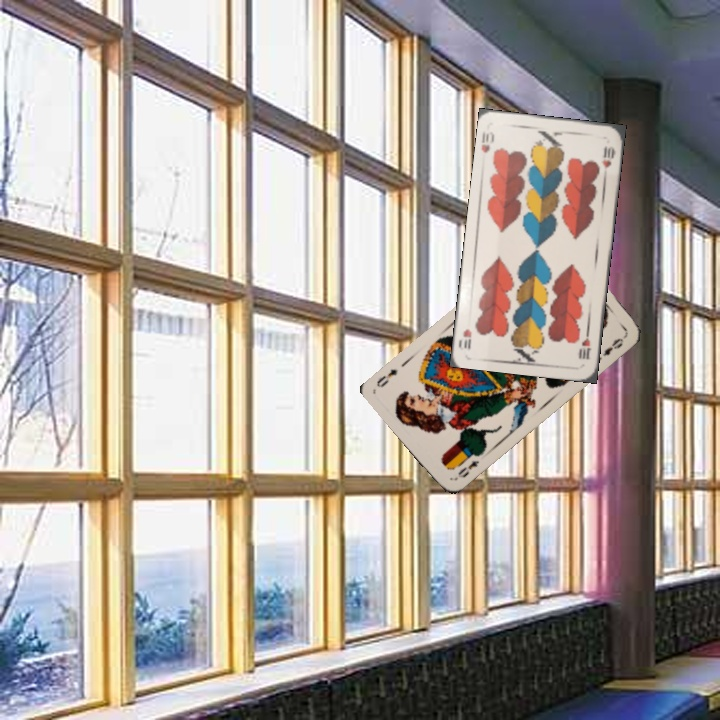EO: (450, 456, 482, 483)
H10: (575, 325, 594, 362), (477, 127, 497, 155)
